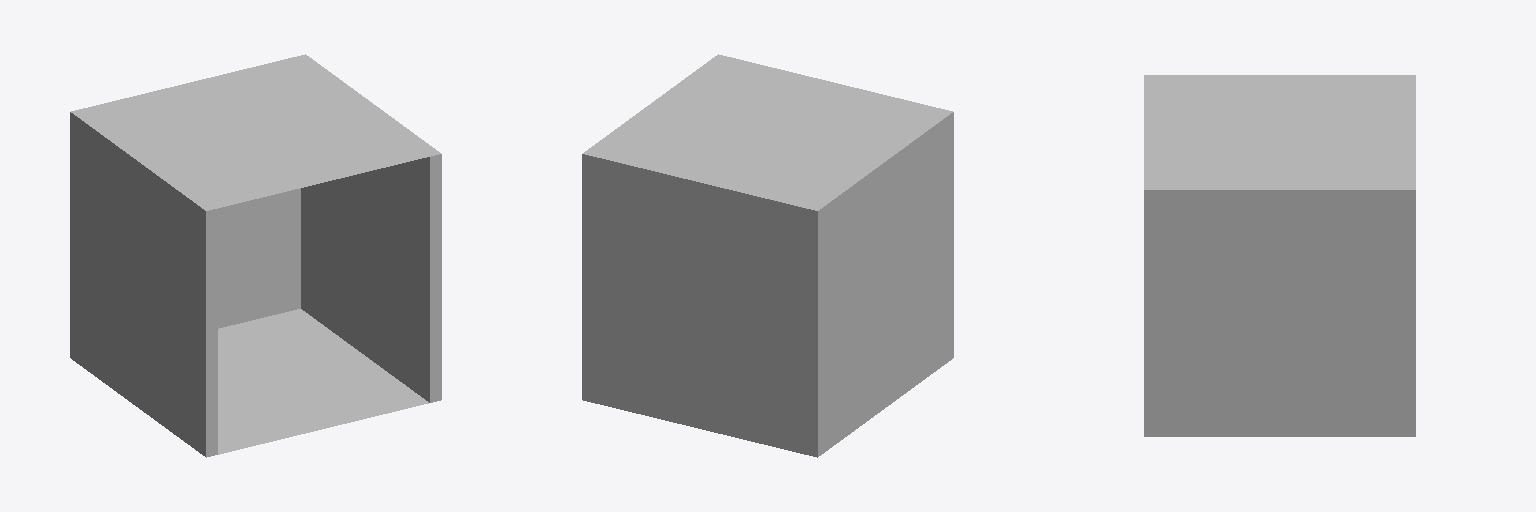
File: Wall_U.obj
3 views of the same model, side by side, from view 1: azimuth 30°, elevation 25°; view 2: azimuth 150°, elevation 25°; view 3: azimuth 270°, elevation 25° (orthographic).
Parts seen in each view (by area): view 1: shape; view 2: shape; view 3: shape.
Part boxes in pixels (x1,y1,x2,y2): shape: (70, 54, 441, 457); shape: (582, 54, 953, 457); shape: (1144, 75, 1415, 436).
Bounding box in the file's own units: 2 × 2 × 2.